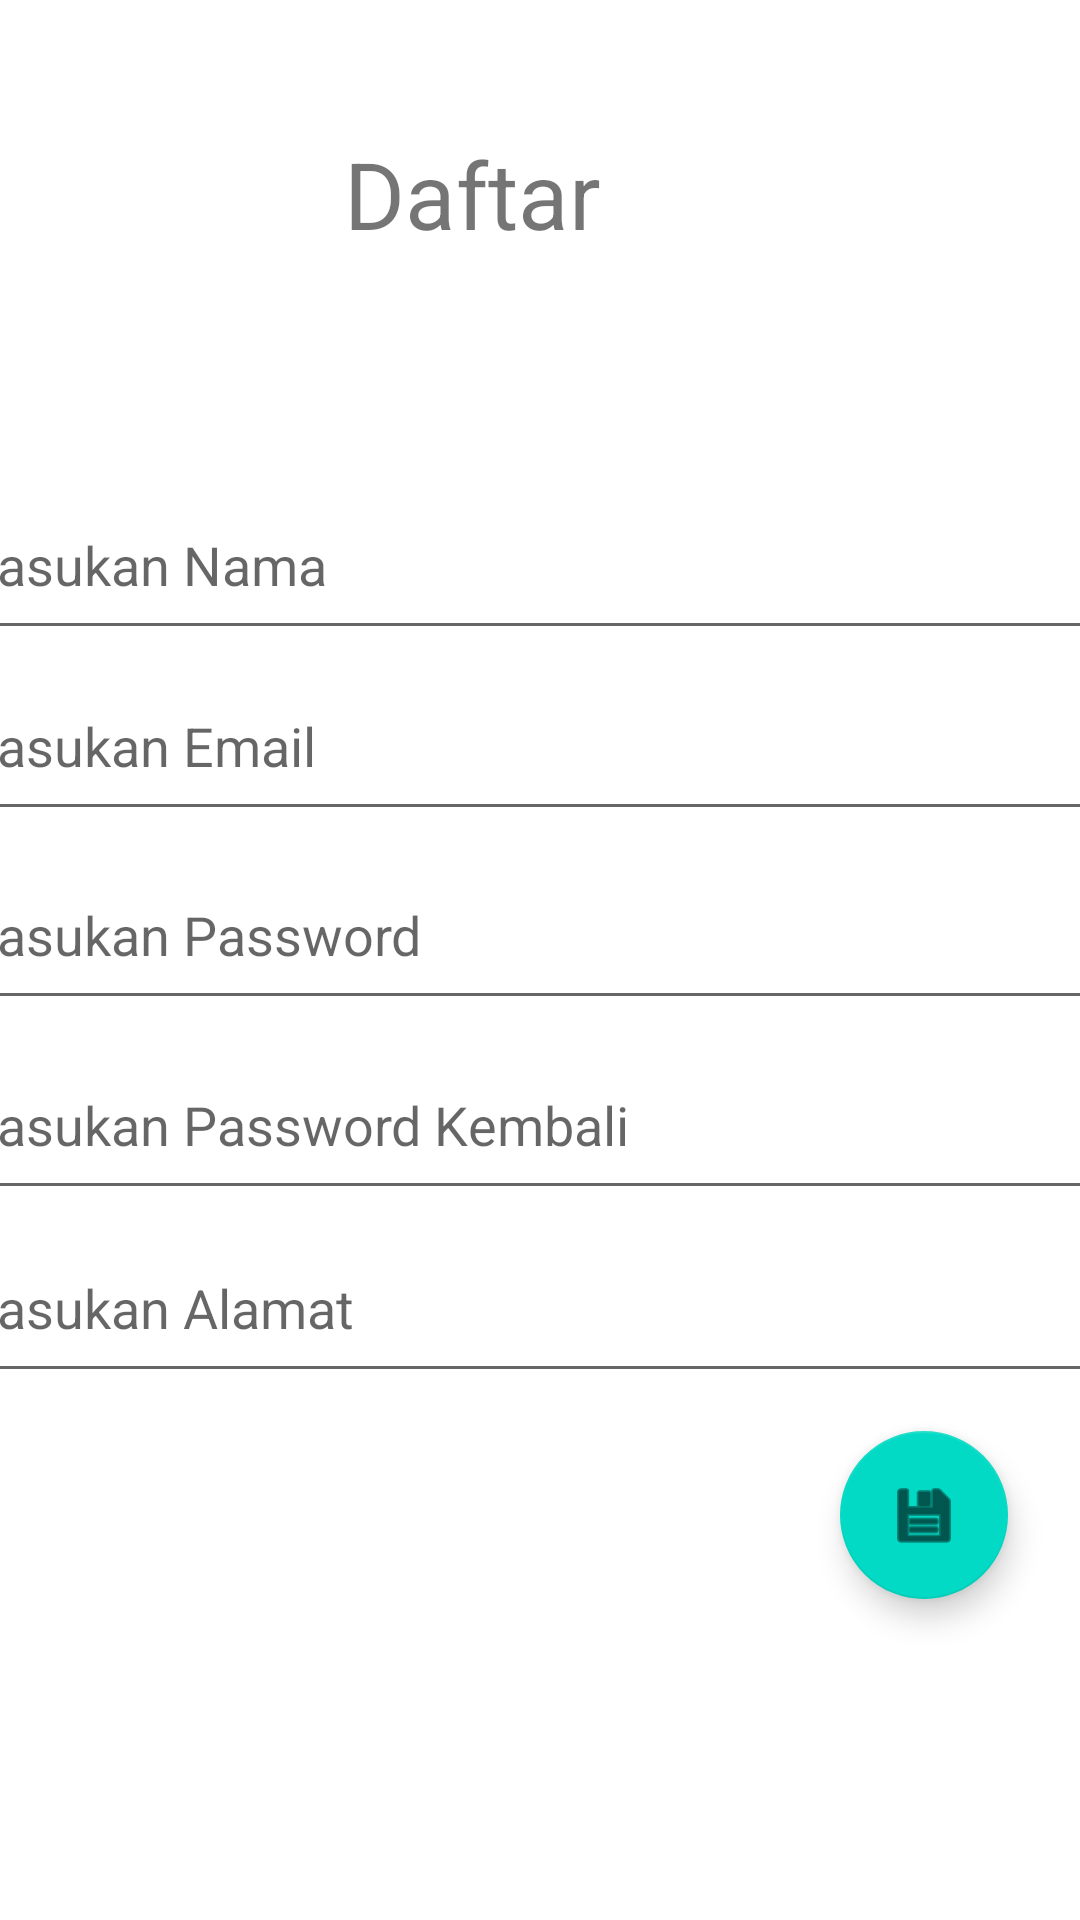

Named icons in this screenshot (1080 x 1920) and their bounding boxes, (x1, y1, x2, y2):
save: (840, 1431, 1008, 1599)
